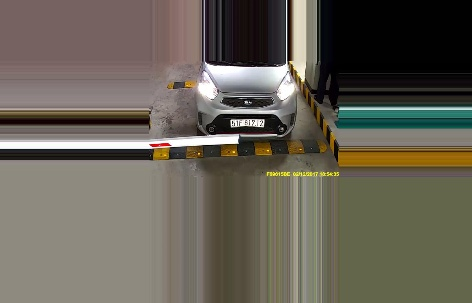plate: (227, 116, 269, 130)
